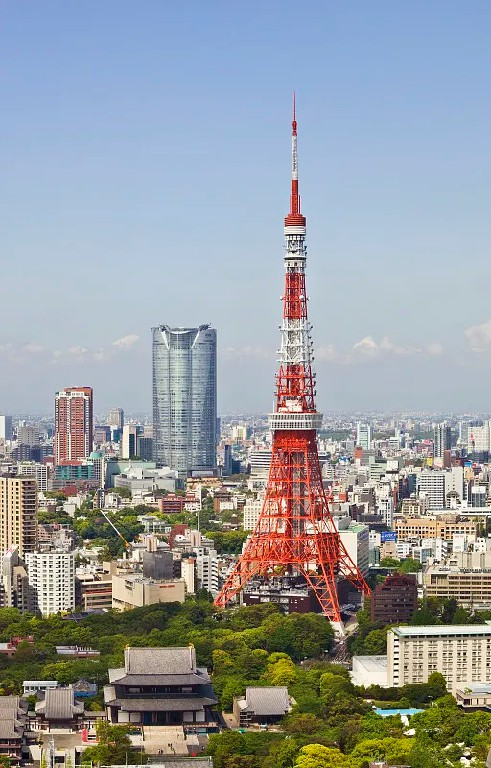Tokyo: (208, 89, 375, 654)
